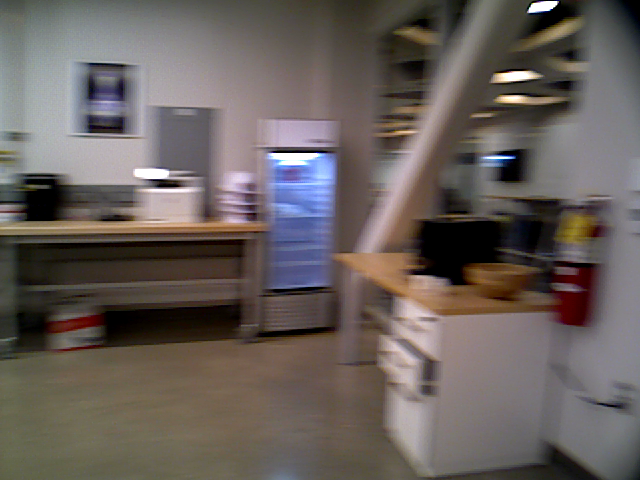painting2: (64, 62, 145, 139)
